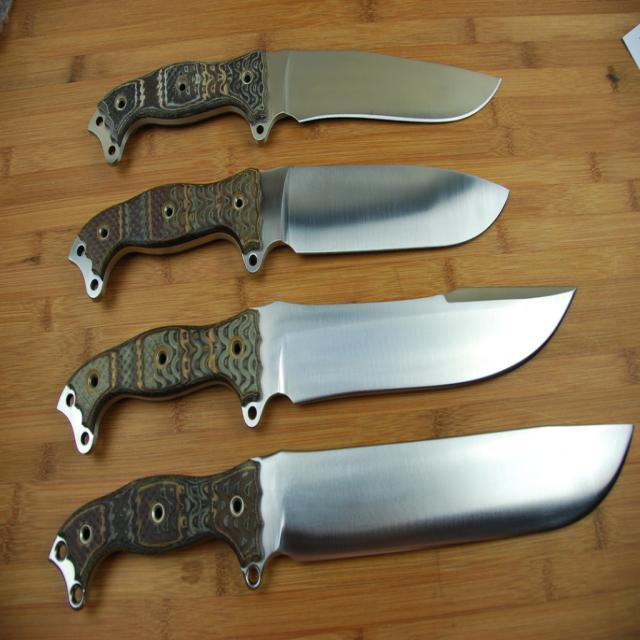Knife: (49, 424, 632, 609), (58, 289, 575, 452), (70, 165, 509, 299), (89, 51, 500, 163)
